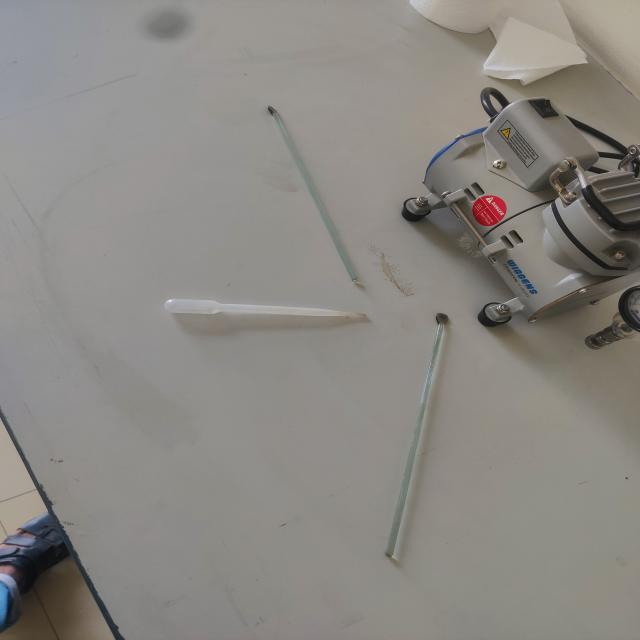Glass_Rod: (357, 292, 476, 580), (248, 84, 379, 296)
Pipette: (160, 270, 390, 356)
